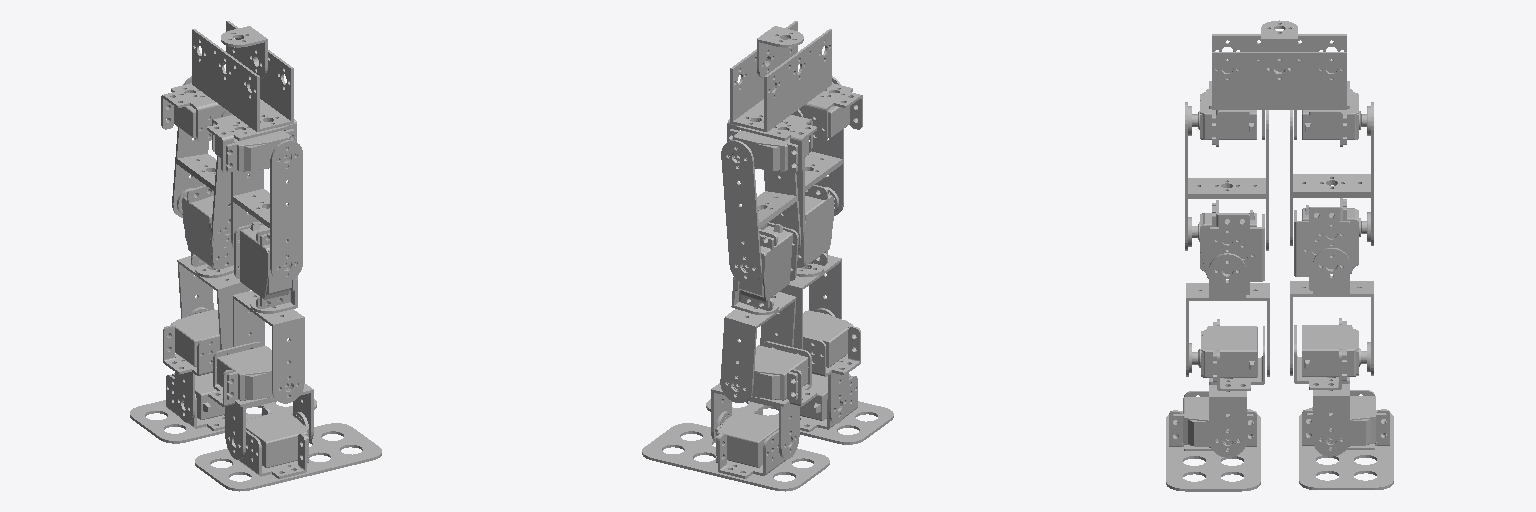
The robot description file, URDF, robot "Biped":
<robot
  name="Biped">
  <link
    name="Torso">
    <inertial>
      <origin
        xyz="-0.0070434 0.067755 0.28778"
        rpy="0 0 0" />
      <mass
        value="0.17172" />
      <inertia
        ixx="0.0002255"
        ixy="-1.0558E-19"
        ixz="-1.4364E-05"
        iyy="9.1883E-05"
        iyz="-9.5237E-12"
        izz="0.00019984" />
    </inertial>
    <visual>
      <origin
        xyz="0 0 0"
        rpy="0 0 0" />
      <geometry>
        <mesh
          filename="package://Biped/meshes/Torso.STL" />
      </geometry>
      <material
        name="">
        <color
          rgba="0.75294 0.75294 0.75294 1" />
      </material>
    </visual>
    <collision>
      <origin
        xyz="0 0 0"
        rpy="0 0 0" />
      <geometry>
        <mesh
          filename="package://Biped/meshes/Torso.STL" />
      </geometry>
    </collision>
  </link>
  <link
    name="RightThigh">
    <inertial>
      <origin
        xyz="0.04394 -8.3484E-17 0.0015297"
        rpy="0 0 0" />
      <mass
        value="0.039762" />
      <inertia
        ixx="2.4478E-05"
        ixy="-2.4657E-20"
        ixz="1.0611E-07"
        iyy="4.6388E-05"
        iyz="-5.5683E-21"
        izz="2.6074E-05" />
    </inertial>
    <visual>
      <origin
        xyz="0 0 0"
        rpy="0 0 0" />
      <geometry>
        <mesh
          filename="package://Biped/meshes/RightThigh.STL" />
      </geometry>
      <material
        name="">
        <color
          rgba="0.75294 0.75294 0.75294 1" />
      </material>
    </visual>
    <collision>
      <origin
        xyz="0 0 0"
        rpy="0 0 0" />
      <geometry>
        <mesh
          filename="package://Biped/meshes/RightThigh.STL" />
      </geometry>
    </collision>
  </link>
  <joint
    name="RHP"
    type="revolute">
    <origin
      xyz="-0.00101 0.033315 0.27521"
      rpy="1.5708 1.5708 0" />
    <parent
      link="Torso" />
    <child
      link="RightThigh" />
    <axis
      xyz="0 0 1" />
    <limit
      effort="0"
      velocity="0" />
  </joint>
  <link
    name="RightLeg">
    <inertial>
      <origin
        xyz="0.025364 0.0026231 -0.0015582"
        rpy="0 0 0" />
      <mass
        value="0.087066" />
      <inertia
        ixx="2.7513E-05"
        ixy="6.4108E-07"
        ixz="-3.7856E-06"
        iyy="8.9424E-05"
        iyz="3.8238E-07"
        izz="7.2544E-05" />
    </inertial>
    <visual>
      <origin
        xyz="0 0 0"
        rpy="0 0 0" />
      <geometry>
        <mesh
          filename="package://Biped/meshes/RightLeg.STL" />
      </geometry>
      <material
        name="">
        <color
          rgba="0.75294 0.75294 0.75294 1" />
      </material>
    </visual>
    <collision>
      <origin
        xyz="0 0 0"
        rpy="0 0 0" />
      <geometry>
        <mesh
          filename="package://Biped/meshes/RightLeg.STL" />
      </geometry>
    </collision>
  </link>
  <joint
    name="RKP"
    type="revolute">
    <origin
      xyz="0.082 0 0"
      rpy="-8.8837E-17 5.5511E-17 -3.3839E-19" />
    <parent
      link="RightThigh" />
    <child
      link="RightLeg" />
    <axis
      xyz="0 0 1" />
    <limit
      effort="0"
      velocity="0" />
  </joint>
  <link
    name="RightAnkle">
    <inertial>
      <origin
        xyz="0.00837180077220172 -0.00699559081398933 -0.00239534776194035"
        rpy="0 0 0" />
      <mass
        value="0.07577179240796" />
      <inertia
        ixx="3.1046900740406E-05"
        ixy="-4.50688797784087E-06"
        ixz="-6.81478369531946E-07"
        iyy="2.57601436628987E-05"
        iyz="-7.48188262756949E-07"
        izz="3.74119721112539E-05" />
    </inertial>
    <visual>
      <origin
        xyz="0 0 0"
        rpy="0 0 0" />
      <geometry>
        <mesh
          filename="package://Biped/meshes/RightAnkle.STL" />
      </geometry>
      <material
        name="">
        <color
          rgba="0.752941176470588 0.752941176470588 0.752941176470588 1" />
      </material>
    </visual>
    <collision>
      <origin
        xyz="0 0 0"
        rpy="0 0 0" />
      <geometry>
        <mesh
          filename="package://Biped/meshes/RightAnkle.STL" />
      </geometry>
    </collision>
  </link>
  <joint
    name="RAP"
    type="revolute">
    <origin
      xyz="0.09249 0.00125 0"
      rpy="1.8895E-16 0 0" />
    <parent
      link="RightLeg" />
    <child
      link="RightAnkle" />
    <axis
      xyz="0 0 1" />
    <limit
      effort="0"
      velocity="0" />
  </joint>
  <link
    name="RightFoot">
    <inertial>
      <origin
        xyz="0.00742892457879679 -0.00972567132312177 0.0021017932410036"
        rpy="0 0 0" />
      <mass
        value="0.092632805492263" />
      <inertia
        ixx="7.53633907365661E-05"
        ixy="4.78448696371906E-08"
        ixz="-3.25041411929878E-06"
        iyy="6.07545524060239E-05"
        iyz="-2.47191501531842E-07"
        izz="2.96175745667512E-05" />
    </inertial>
    <visual>
      <origin
        xyz="0 0 0"
        rpy="0 0 0" />
      <geometry>
        <mesh
          filename="package://Biped/meshes/RightFoot.STL" />
      </geometry>
      <material
        name="">
        <color
          rgba="0.752941176470588 0.752941176470588 0.752941176470588 1" />
      </material>
    </visual>
    <collision>
      <origin
        xyz="0 0 0"
        rpy="0 0 0" />
      <geometry>
        <mesh
          filename="package://Biped/meshes/RightFoot.STL" />
      </geometry>
    </collision>
  </link>
  <joint
    name="RAR"
    type="revolute">
    <origin
      xyz="0.04725 0 0"
      rpy="-1.5708 -8.8994E-16 1.6653E-16" />
    <parent
      link="RightAnkle" />
    <child
      link="RightFoot" />
    <axis
      xyz="0 0 1" />
    <limit
      effort="0"
      velocity="0" />
  </joint>
  <link
    name="LeftThigh">
    <inertial>
      <origin
        xyz="0.043796 -0.0035541 -0.0015297"
        rpy="0 0 0" />
      <mass
        value="0.039762" />
      <inertia
        ixx="2.4621E-05"
        ixy="1.7664E-06"
        ixz="-1.0577E-07"
        iyy="4.6245E-05"
        iyz="8.583E-09"
        izz="2.6074E-05" />
    </inertial>
    <visual>
      <origin
        xyz="0 0 0"
        rpy="0 0 0" />
      <geometry>
        <mesh
          filename="package://Biped/meshes/LeftThigh.STL" />
      </geometry>
      <material
        name="">
        <color
          rgba="0.75294 0.75294 0.75294 1" />
      </material>
    </visual>
    <collision>
      <origin
        xyz="0 0 0"
        rpy="0 0 0" />
      <geometry>
        <mesh
          filename="package://Biped/meshes/LeftThigh.STL" />
      </geometry>
    </collision>
  </link>
  <joint
    name="LHP"
    type="revolute">
    <origin
      xyz="-0.00101 0.1022 0.27521"
      rpy="1.5708 1.5708 0" />
    <parent
      link="Torso" />
    <child
      link="LeftThigh" />
    <axis
      xyz="0 0 1" />
    <limit
      effort="0"
      velocity="0" />
  </joint>
  <link
    name="LeftLeg">
    <inertial>
      <origin
        xyz="0.0247007773804843 0.00633162041457203 0.00155822758779832"
        rpy="0 0 0" />
      <mass
        value="0.0870659695425138" />
      <inertia
        ixx="2.86699030193354E-05"
        ixy="-8.40918202698599E-06"
        ixz="3.8006354330755E-06"
        iyy="8.82671787235872E-05"
        iyz="1.7956063076664E-07"
        izz="7.25444538478562E-05" />
    </inertial>
    <visual>
      <origin
        xyz="0 0 0"
        rpy="0 0 0" />
      <geometry>
        <mesh
          filename="package://Biped/meshes/LeftLeg.STL" />
      </geometry>
      <material
        name="">
        <color
          rgba="0.752941176470588 0.752941176470588 0.752941176470588 1" />
      </material>
    </visual>
    <collision>
      <origin
        xyz="0 0 0"
        rpy="0 0 0" />
      <geometry>
        <mesh
          filename="package://Biped/meshes/LeftLeg.STL" />
      </geometry>
    </collision>
  </link>
  <joint
    name="LKP"
    type="revolute">
    <origin
      xyz="0.081731 -0.0066326 0"
      rpy="-9.3218E-17 5.2634E-17 -0.080974" />
    <parent
      link="LeftThigh" />
    <child
      link="LeftLeg" />
    <axis
      xyz="0 0 1" />
    <limit
      effort="0"
      velocity="0" />
  </joint>
  <link
    name="LeftAnkle">
    <inertial>
      <origin
        xyz="0.00788539731983381 -0.00753949340237611 0.00239534776194038"
        rpy="0 0 0" />
      <mass
        value="0.07577179240796" />
      <inertia
        ixx="3.04221153828982E-05"
        ixy="-4.81971241282012E-06"
        ixz="7.29971625946848E-07"
        iyy="2.6385092171767E-05"
        iyz="7.00979083841733E-07"
        izz="3.74121352626145E-05" />
    </inertial>
    <visual>
      <origin
        xyz="0 0 0"
        rpy="0 0 0" />
      <geometry>
        <mesh
          filename="package://Biped/meshes/LeftAnkle.STL" />
      </geometry>
      <material
        name="">
        <color
          rgba="0.752941176470588 0.752941176470588 0.752941176470588 1" />
      </material>
    </visual>
    <collision>
      <origin
        xyz="0 0 0"
        rpy="0 0 0" />
      <geometry>
        <mesh
          filename="package://Biped/meshes/LeftAnkle.STL" />
      </geometry>
    </collision>
  </link>
  <joint
    name="LAP"
    type="revolute">
    <origin
      xyz="0.091296 0.014864 -1E-05"
      rpy="5.4905E-17 -8.1789E-18 0.14788" />
    <parent
      link="LeftLeg" />
    <child
      link="LeftAnkle" />
    <axis
      xyz="0 0 1" />
    <limit
      effort="0"
      velocity="0" />
  </joint>
  <link
    name="LeftFoot">
    <inertial>
      <origin
        xyz="0.0074289 0.0099038 0.0021018"
        rpy="0 0 0" />
      <mass
        value="0.092633" />
      <inertia
        ixx="7.5369E-05"
        ixy="-1.934E-07"
        ixz="-3.2504E-06"
        iyy="6.0755E-05"
        iyz="1.2123E-07"
        izz="2.9623E-05" />
    </inertial>
    <visual>
      <origin
        xyz="0 0 0"
        rpy="0 0 0" />
      <geometry>
        <mesh
          filename="package://Biped/meshes/LeftFoot.STL" />
      </geometry>
      <material
        name="">
        <color
          rgba="0.75294 0.75294 0.75294 1" />
      </material>
    </visual>
    <collision>
      <origin
        xyz="0 0 0"
        rpy="0 0 0" />
      <geometry>
        <mesh
          filename="package://Biped/meshes/LeftFoot.STL" />
      </geometry>
    </collision>
  </link>
  <joint
    name="LAR"
    type="revolute">
    <origin
      xyz="0.047144 -0.0031588 1E-05"
      rpy="-1.5708 0 -0.066903" />
    <parent
      link="LeftAnkle" />
    <child
      link="LeftFoot" />
    <axis
      xyz="0 0 1" />
    <limit
      effort="0"
      velocity="0" />
  </joint>
</robot>

--- Facts derived from the render (not from the file) ---
Views: 3 orthographic renders of the robot side by side, from view 1: azimuth 30°, elevation 25°; view 2: azimuth 150°, elevation 25°; view 3: azimuth 270°, elevation 25°.
Model Biped with 9 links and 8 joints (8 revolute), rooted at Torso, posed all joints at 0.
Visible links, largest first — view 1: Torso, RightLeg, RightFoot, RightThigh, LeftLeg, RightAnkle, LeftAnkle, LeftThigh, LeftFoot; view 2: Torso, LeftFoot, LeftLeg, LeftThigh, LeftAnkle, RightLeg, RightAnkle, RightFoot, RightThigh; view 3: Torso, LeftLeg, RightLeg, RightAnkle, LeftAnkle, RightFoot, LeftFoot, LeftThigh, RightThigh.
Boxes of the visible links, x1=… form: Torso: x1=161, y1=21, x2=296, y2=173; RightLeg: x1=233, y1=222, x2=304, y2=403; RightFoot: x1=195, y1=407, x2=381, y2=491; RightThigh: x1=231, y1=140, x2=302, y2=282; LeftLeg: x1=177, y1=185, x2=249, y2=354; RightAnkle: x1=208, y1=342, x2=313, y2=459; LeftAnkle: x1=163, y1=309, x2=219, y2=422; LeftThigh: x1=172, y1=76, x2=247, y2=246; LeftFoot: x1=130, y1=373, x2=316, y2=443; Torso: x1=727, y1=21, x2=862, y2=173; LeftFoot: x1=642, y1=407, x2=829, y2=491; LeftLeg: x1=720, y1=222, x2=798, y2=402; LeftThigh: x1=721, y1=140, x2=800, y2=283; LeftAnkle: x1=711, y1=341, x2=816, y2=459; RightLeg: x1=776, y1=185, x2=841, y2=354; RightAnkle: x1=764, y1=310, x2=860, y2=423; RightFoot: x1=706, y1=374, x2=893, y2=444; RightThigh: x1=779, y1=76, x2=843, y2=240; Torso: x1=1198, y1=20, x2=1360, y2=146; LeftLeg: x1=1290, y1=198, x2=1373, y2=375; RightLeg: x1=1186, y1=200, x2=1269, y2=376; RightAnkle: x1=1198, y1=319, x2=1264, y2=457; LeftAnkle: x1=1294, y1=318, x2=1360, y2=456; RightFoot: x1=1166, y1=391, x2=1260, y2=491; LeftFoot: x1=1299, y1=390, x2=1393, y2=489; LeftThigh: x1=1290, y1=102, x2=1373, y2=245; RightThigh: x1=1185, y1=102, x2=1268, y2=250.
Size in the robot's own frame: 0.1239 by 0.1524 by 0.3058 metres.
9 mesh visuals loaded from 9 distinct referenced files (9 binary STL).
